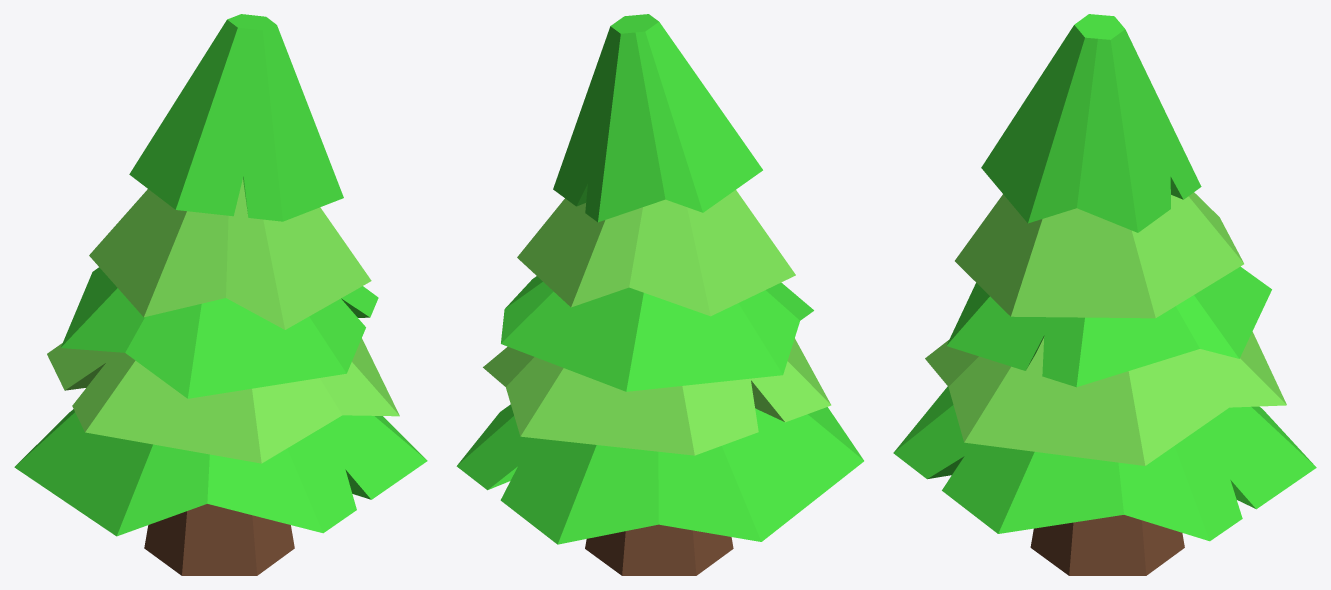
The model's file is pineTree1.fbx.
3 views of the same model, side by side, from view 1: azimuth 30°, elevation 25°; view 2: azimuth 150°, elevation 25°; view 3: azimuth 270°, elevation 25° (orthographic). The views are drawn at different scales.
Parts seen in each view (by area): view 1: Arvore1; view 2: Arvore1; view 3: Arvore1.
Boxes of the visible parts, x1,y1,x2,y2 form: Arvore1: [14, 14, 427, 575]; Arvore1: [456, 14, 863, 575]; Arvore1: [893, 14, 1316, 575].
Bounding box in the file's own units: 484 × 769 × 549.
